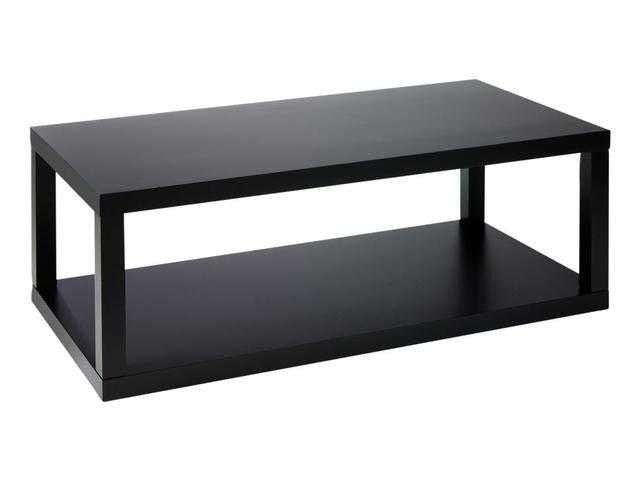obstacle: (31, 80, 609, 399)
